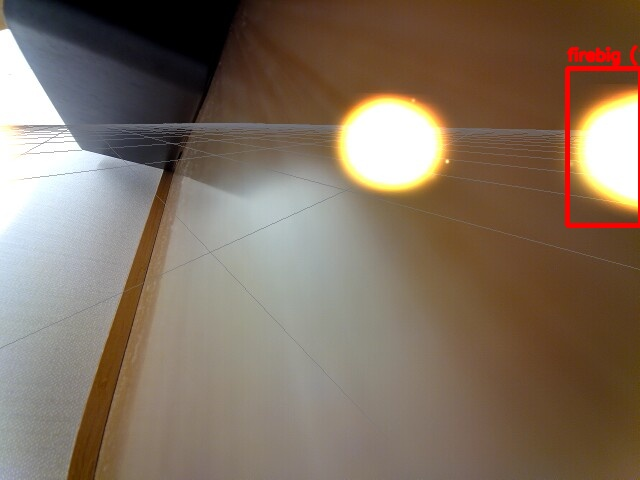firebig: (567, 68, 640, 225)
